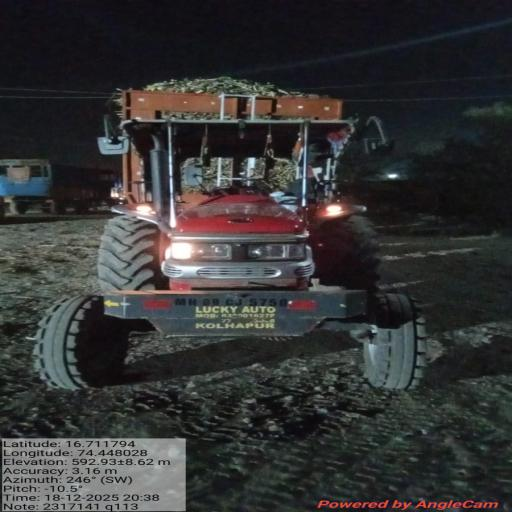number_plate: (154, 290, 316, 310)
